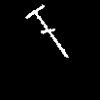double_crochet: (26, 5, 67, 56)
